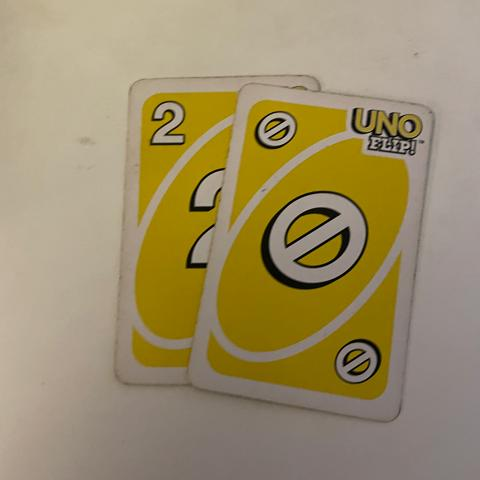reverse_blue: (145, 98, 191, 148)
reverse_yellow: (251, 184, 375, 294), (331, 335, 386, 383), (251, 108, 298, 151)
